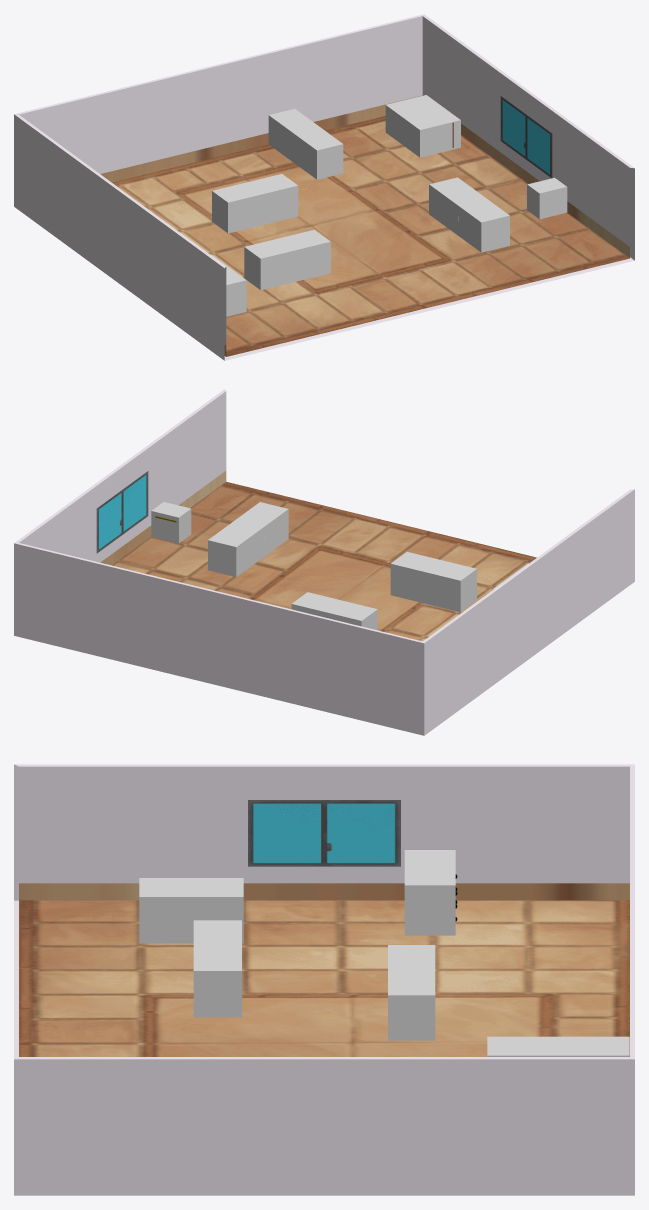
The model's file is stage.gltf.
3 renders of one model, top to bottom at view 1: azimuth 30°, elevation 25°; view 2: azimuth 150°, elevation 25°; view 3: azimuth 270°, elevation 25°, orthographic. The views are drawn at different scales.
Visible parts, largest first — view 1: Cube, COL.007, COL.002, COL.001, COL.003, COL.006, COL.011, COL.004; view 2: Cube, COL.007, COL.002, COL.001, COL.011; view 3: Cube, COL.004, COL.002, COL.001, COL.005, COL.006.
Part boxes in pixels (x1,y1,x2,y2): Cube: [14, 14, 634, 360]; COL.007: [429, 177, 509, 252]; COL.002: [244, 229, 330, 290]; COL.001: [212, 174, 298, 233]; COL.003: [385, 95, 460, 157]; COL.006: [268, 109, 343, 179]; COL.011: [527, 177, 567, 219]; COL.004: [210, 254, 246, 316]; Cube: [14, 389, 634, 735]; COL.007: [208, 502, 288, 577]; COL.002: [390, 552, 476, 612]; COL.001: [291, 592, 377, 630]; COL.011: [151, 502, 191, 543]; Cube: [14, 764, 634, 1195]; COL.004: [139, 878, 243, 943]; COL.002: [193, 920, 241, 1017]; COL.001: [388, 945, 435, 1040]; COL.005: [404, 850, 455, 935]; COL.006: [487, 1036, 629, 1056].
Size of the model in its own units: 5.85 by 1.26 by 5.2.
39 materials, 4 textured.
